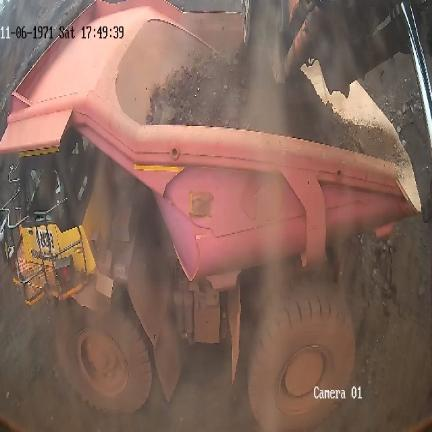pile: (145, 39, 365, 152), (339, 223, 432, 381)
